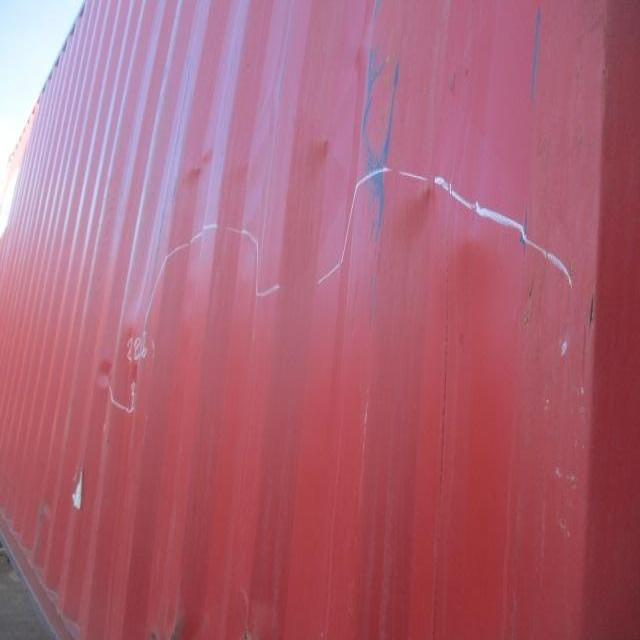dent: (405, 173, 502, 280), (89, 325, 157, 416), (172, 144, 228, 190), (302, 129, 342, 180)
